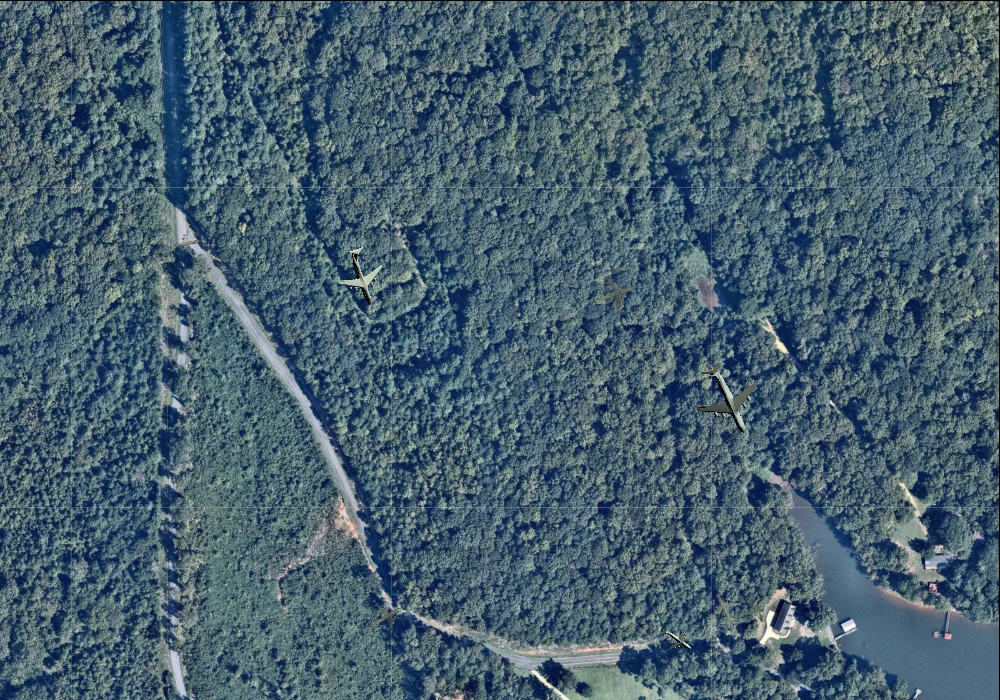plane: (680, 350, 775, 447), (326, 239, 397, 312), (586, 268, 641, 322), (360, 594, 411, 644), (701, 585, 750, 634), (654, 617, 699, 662), (170, 224, 206, 259)
